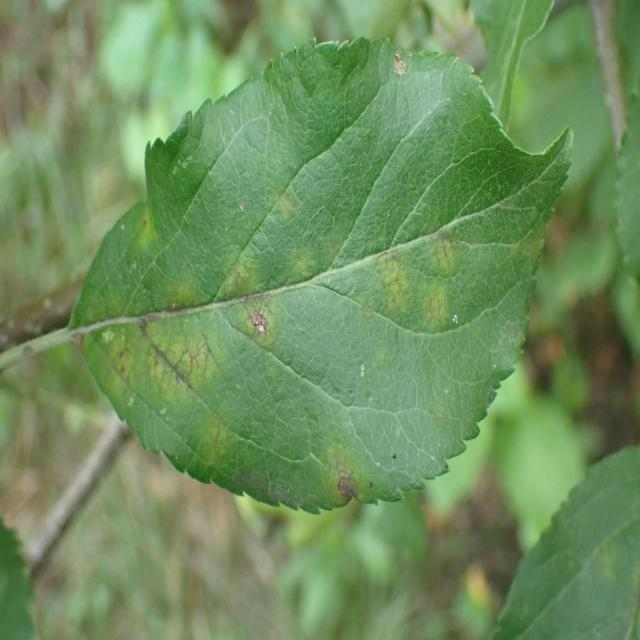scab: (62, 98, 541, 512)
